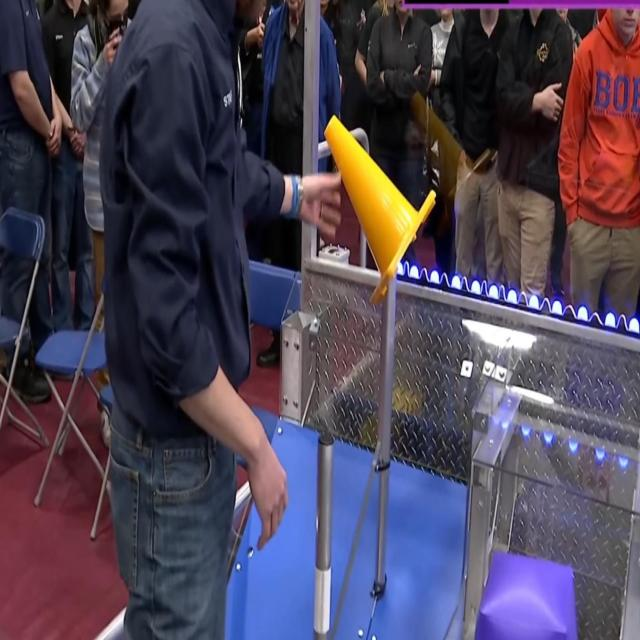frc_cone: (322, 109, 436, 305)
frc_cube: (476, 557, 577, 640)
